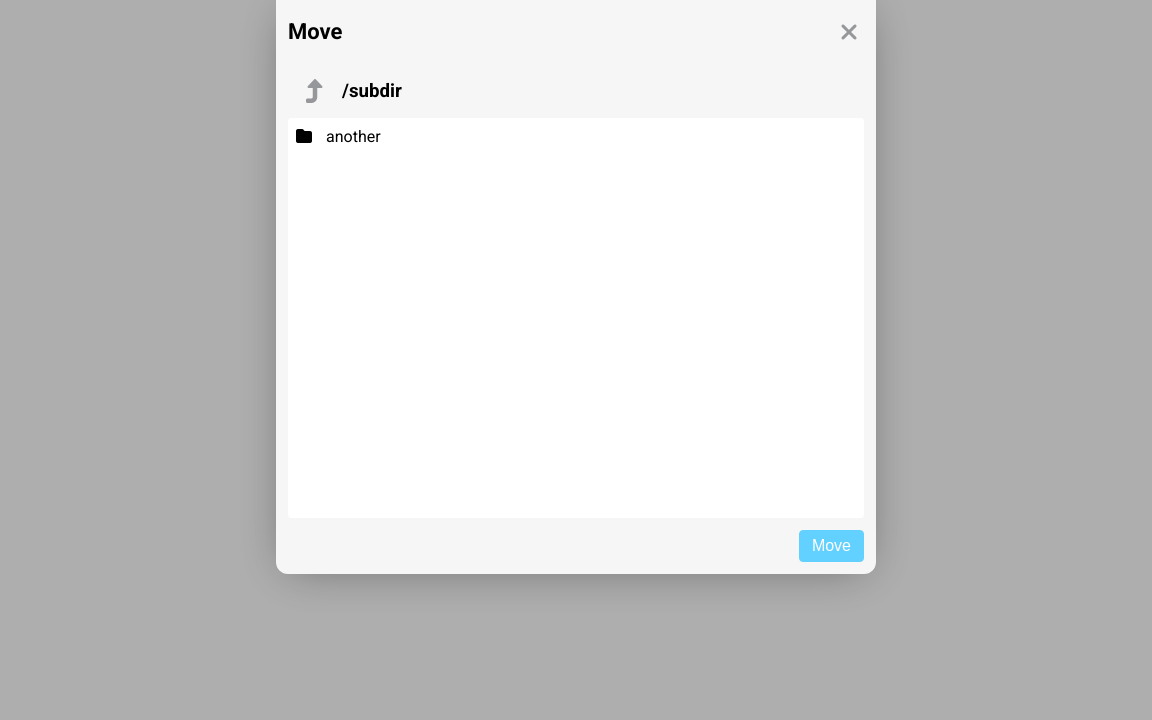
Scenario: MoveModal › enters the parent directory when going up
Expected: the text "another" is shown, [320,118,864,154]
Click the button named "Parent directory".
click(315, 91)  # box [300,76,330,106]
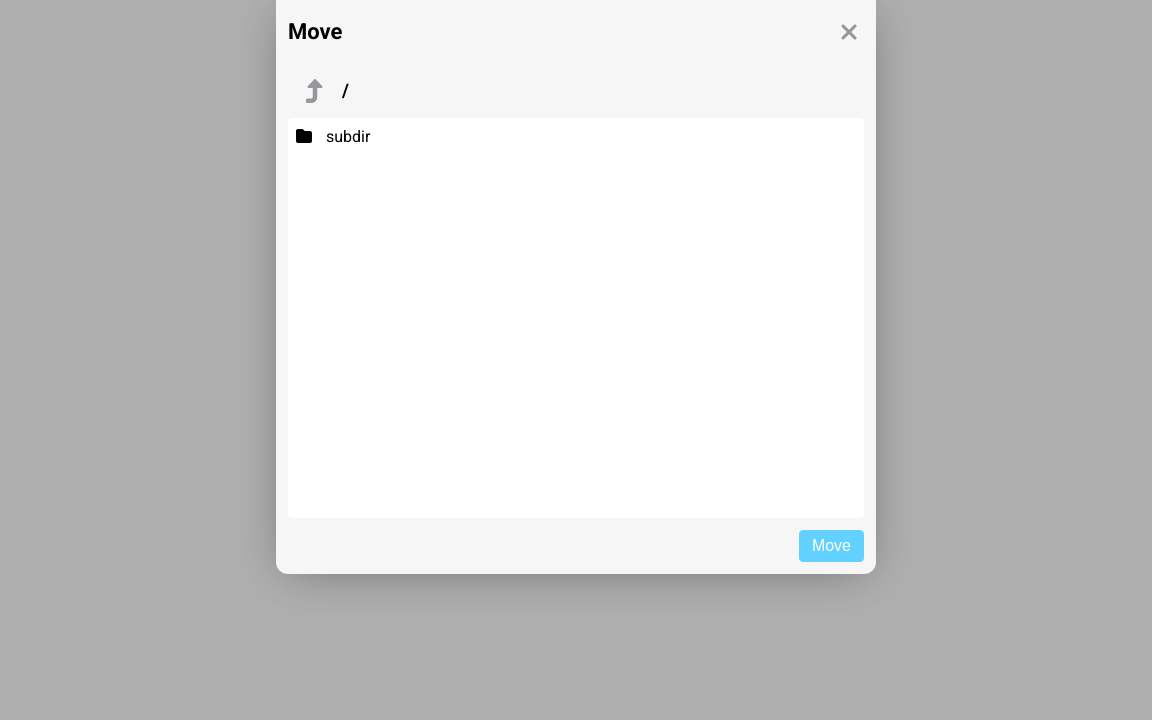
Expected: the text "subdir" is shown, [320,118,864,154]
